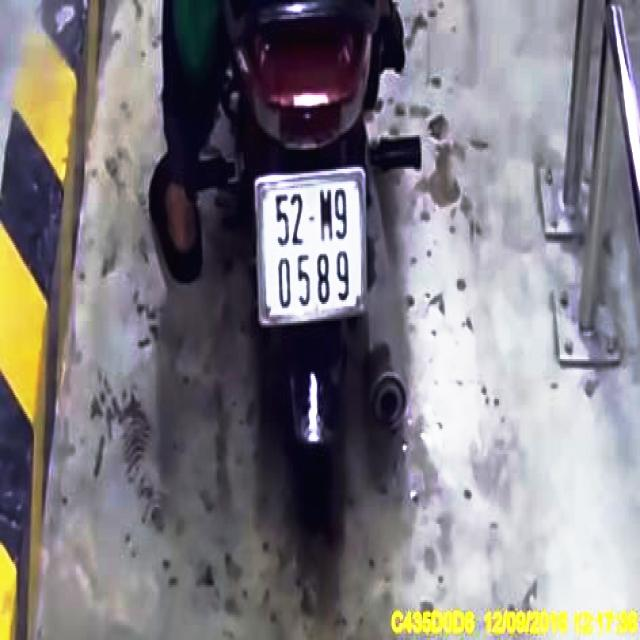license_plate: (259, 169, 367, 323)
